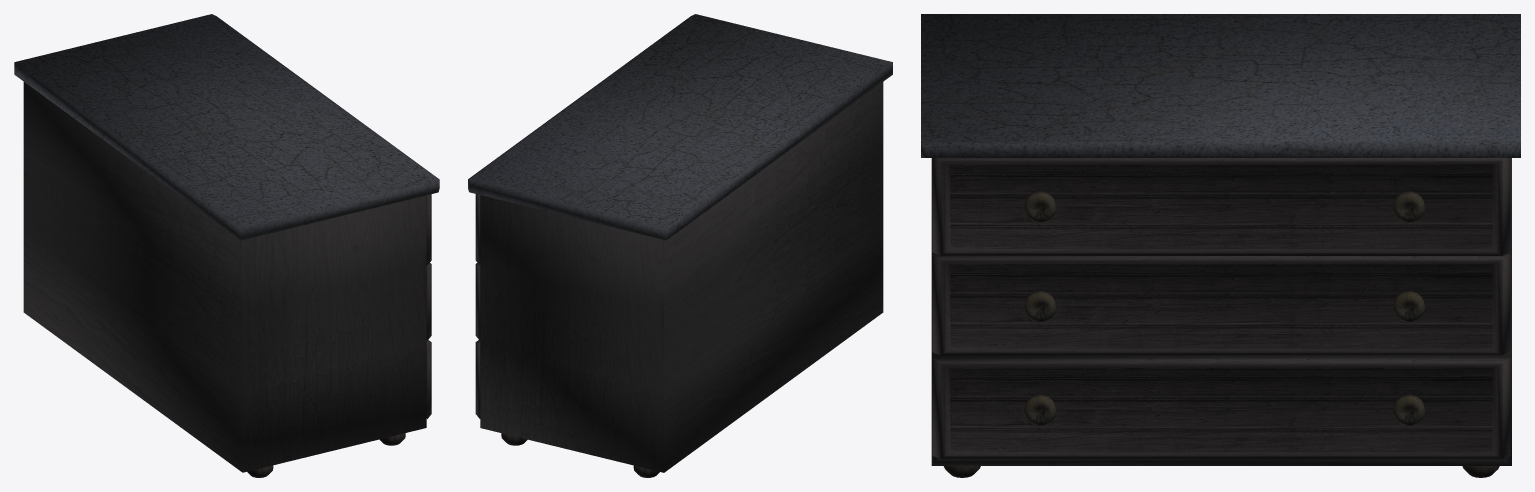
Rendered from FPH_Commode.fbx.
The picture shows the model from 3 angles, left to right: view 1: azimuth 30°, elevation 25°; view 2: azimuth 150°, elevation 25°; view 3: azimuth 270°, elevation 25°; orthographic projection. The views are drawn at different scales.
Visible parts, largest first — view 1: FPH_Commode, FPH_Commode_003, FPH_Commode_002; view 2: FPH_Commode, FPH_Commode_003, FPH_Commode_002; view 3: FPH_Commode, FPH_Commode_003, FPH_Commode_002, FPH_Commode_001.
Boxes of the visible parts, box(x1,y1,x2,y2) form: FPH_Commode: box(14, 14, 439, 477); FPH_Commode_003: box(426, 340, 431, 418); FPH_Commode_002: box(426, 263, 431, 340); FPH_Commode: box(468, 14, 892, 477); FPH_Commode_003: box(475, 340, 480, 418); FPH_Commode_002: box(475, 263, 480, 340); FPH_Commode: box(921, 14, 1520, 477); FPH_Commode_003: box(932, 357, 1510, 458); FPH_Commode_002: box(932, 254, 1510, 355); FPH_Commode_001: box(932, 158, 1510, 255).
Size of the model in its own units: 3.73 by 4.6 by 7.12.
